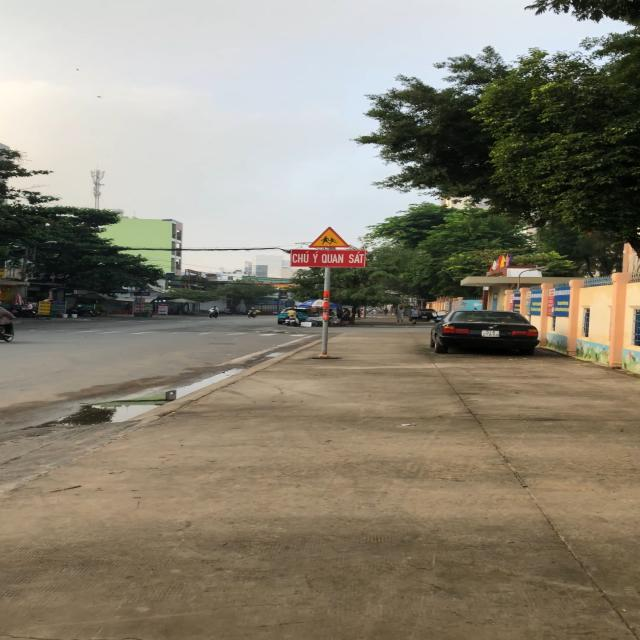Bien bao tre em: (306, 225, 352, 248)
